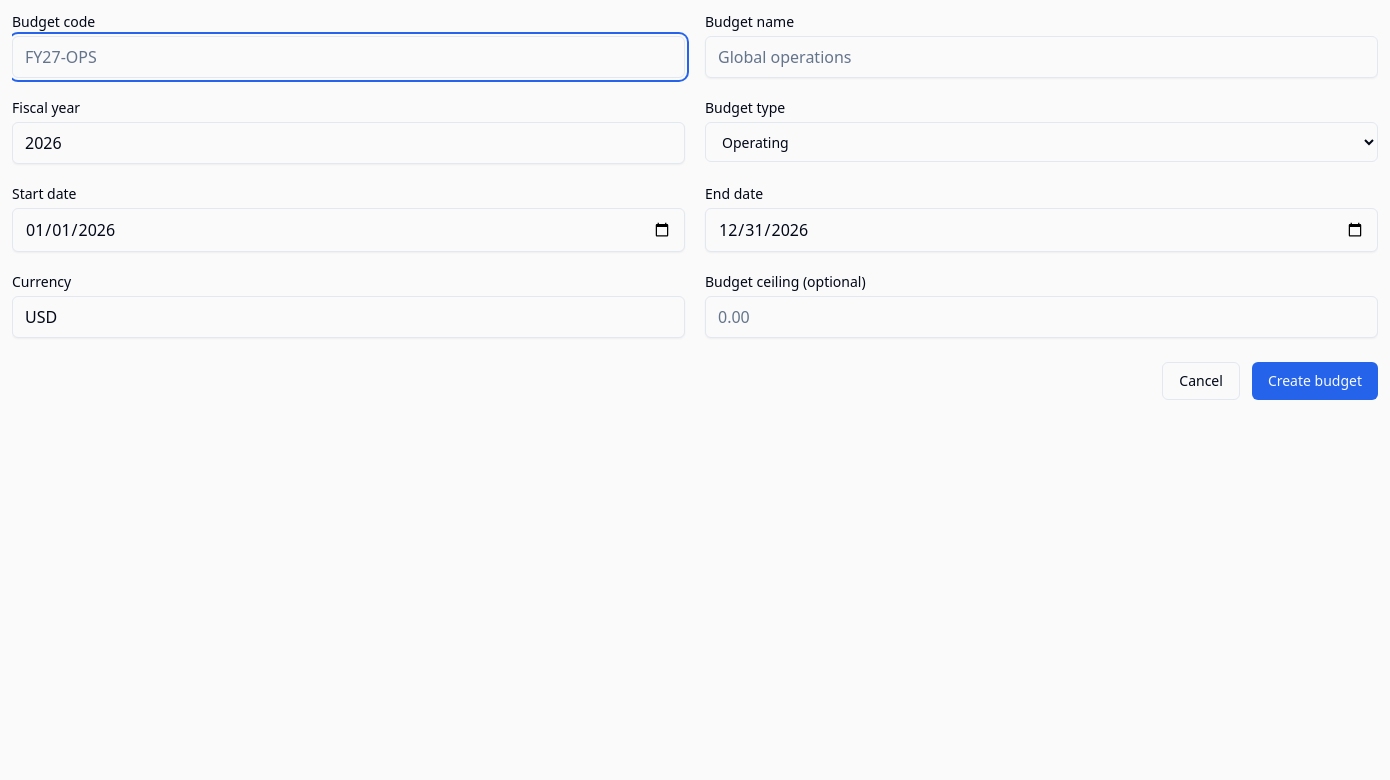
it: BudgetForm › requires scoped IDs for departmental and project budgets
The image size is (1390, 780).
Select "Departmental" in the dropdown labelled "Budget type" at {"x": 1042, "y": 142}, box [705,122,1378,162]
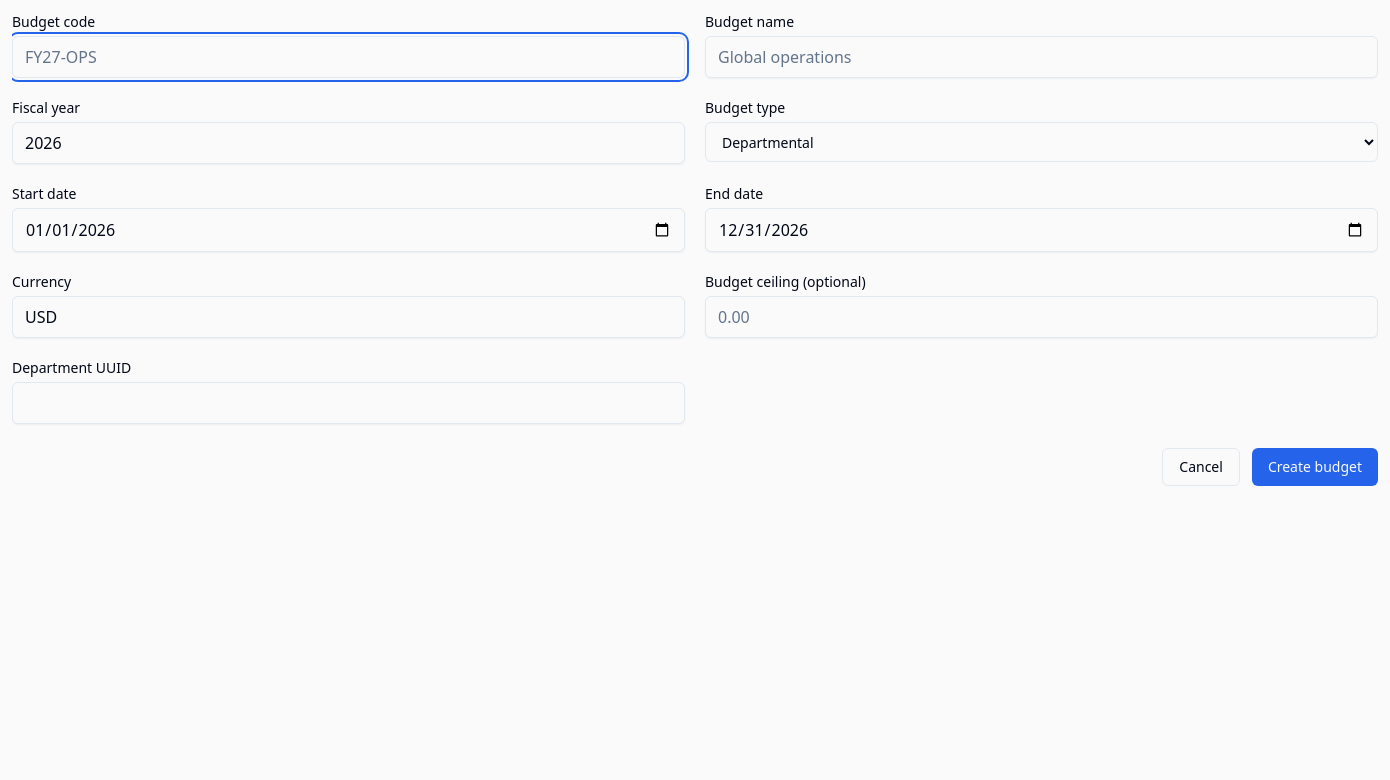
Submit the form, box [12,12,1378,486]
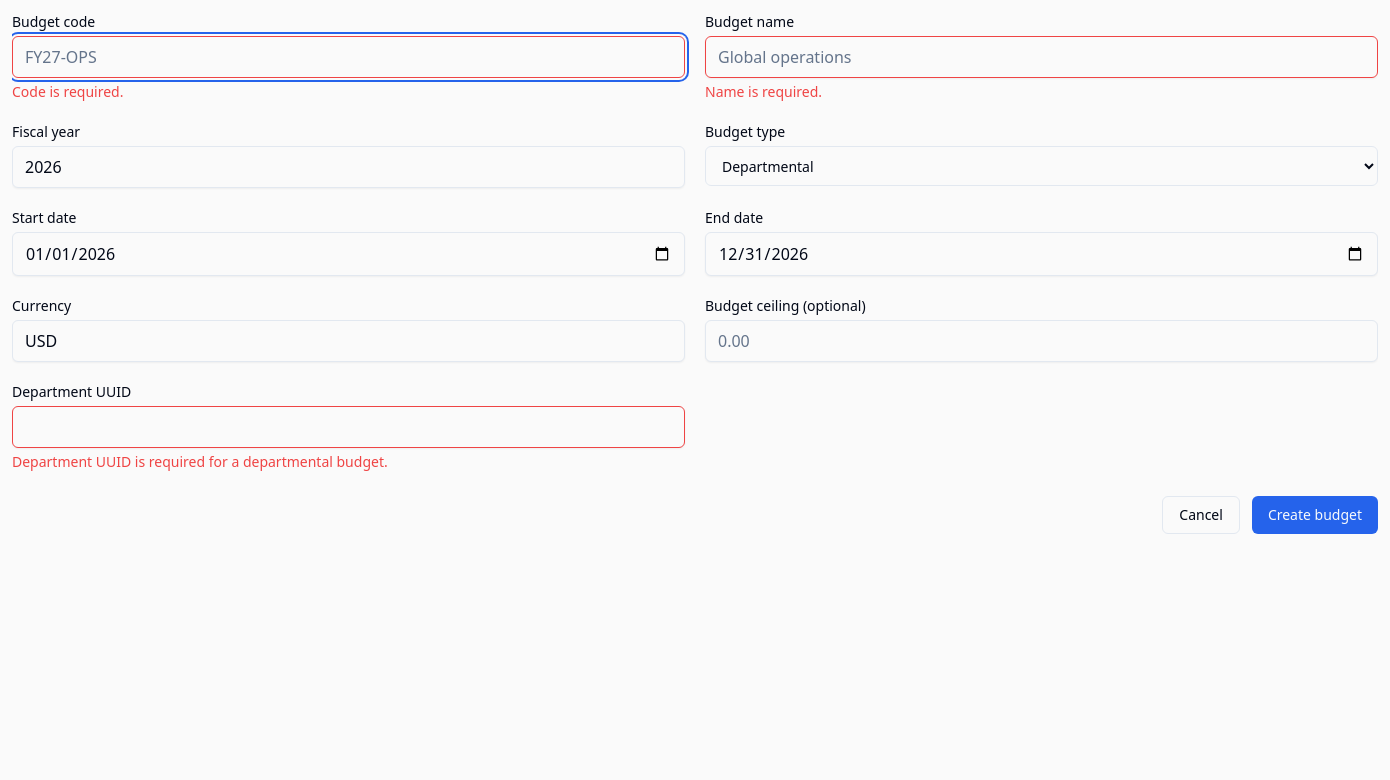
Now the text "Department UUID is required for a departmental budget." is shown, box [12,452,388,471]
Select "Project" in the dropdown labelled "Budget type" at {"x": 1042, "y": 166}, box [705,146,1378,186]
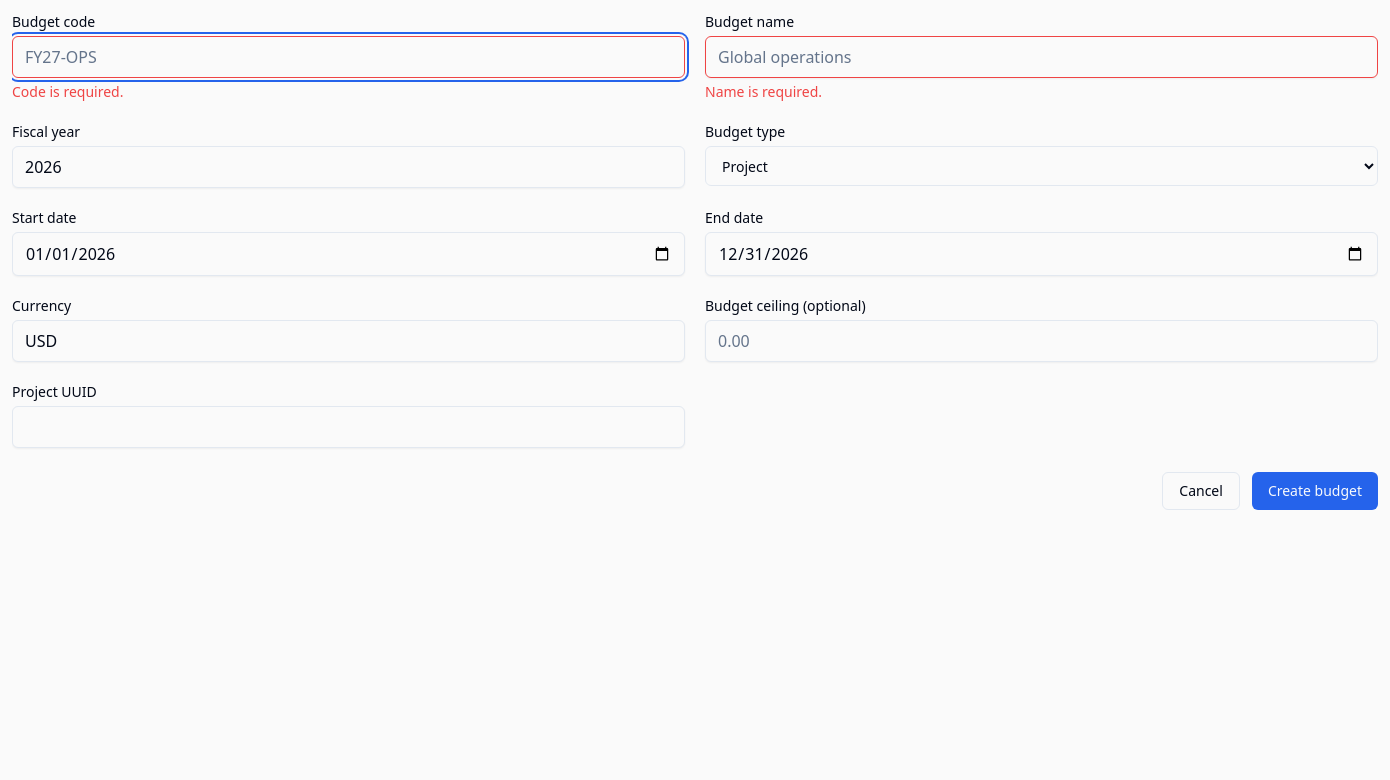
Submit the form
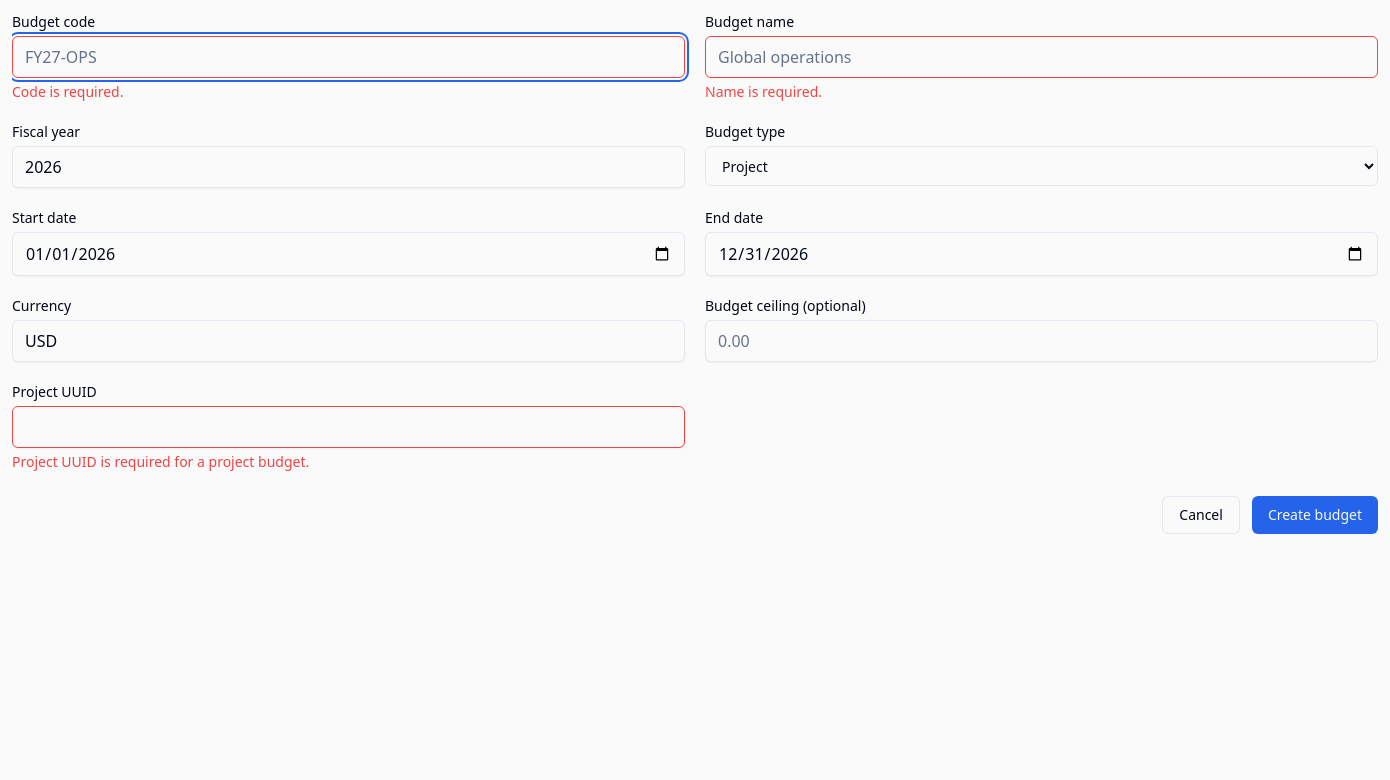
Now the text "Project UUID is required for a project budget." is shown, box [12,452,309,471]
